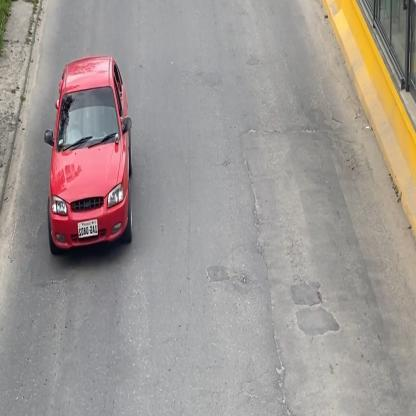Placa: (77, 219, 98, 240)
